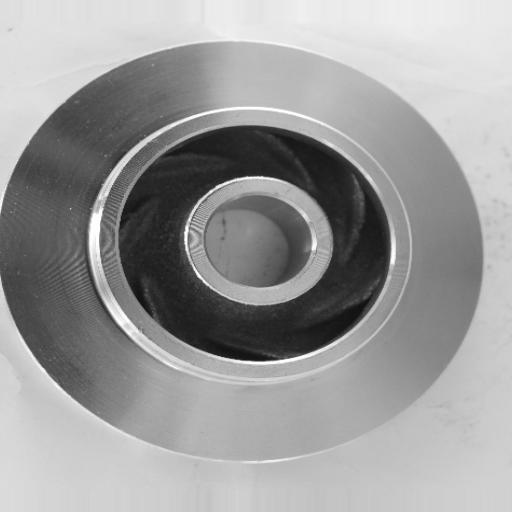polished_casting: (0, 39, 485, 464)
